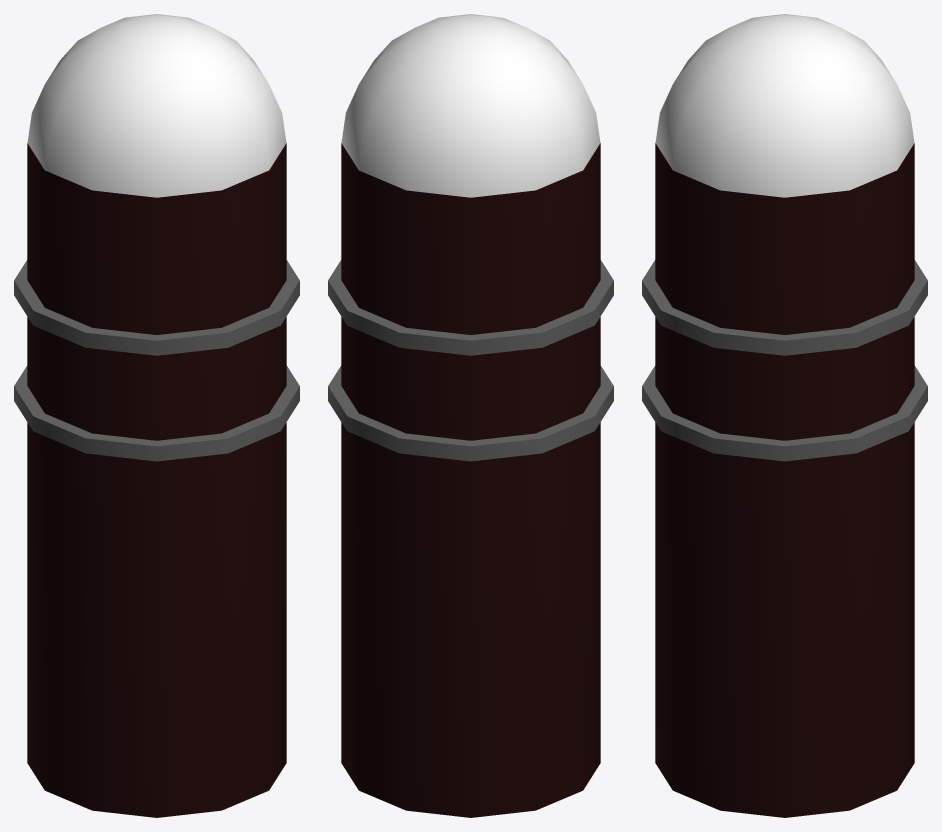
Rendered from Silo.FBX.
3 views of the same model, side by side, from view 1: azimuth 30°, elevation 25°; view 2: azimuth 150°, elevation 25°; view 3: azimuth 270°, elevation 25° (orthographic).
Parts seen in each view (by area): view 1: Capsule001, Tube002, Tube001; view 2: Capsule001, Tube002, Tube001; view 3: Capsule001, Tube002, Tube001.
Part boxes in pixels (bbox=[...]): Capsule001: bbox=[27, 14, 286, 817]; Tube002: bbox=[14, 365, 299, 461]; Tube001: bbox=[14, 260, 299, 355]; Capsule001: bbox=[341, 14, 600, 817]; Tube002: bbox=[328, 365, 613, 461]; Tube001: bbox=[328, 260, 613, 355]; Capsule001: bbox=[655, 14, 914, 817]; Tube002: bbox=[642, 365, 927, 461]; Tube001: bbox=[642, 260, 927, 355].
Bounding box in the file's own units: 7.16 × 20.38 × 7.16.
